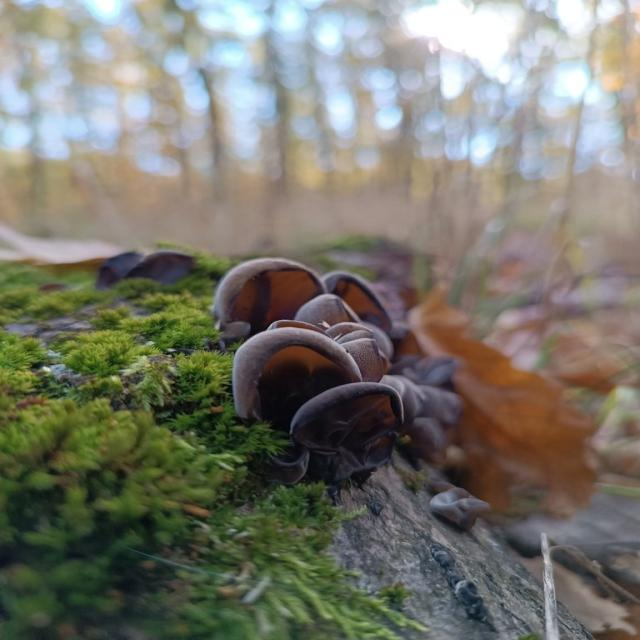Matang: (225, 324, 367, 428), (288, 378, 410, 475), (213, 253, 327, 340), (326, 272, 399, 340), (293, 288, 363, 339)
